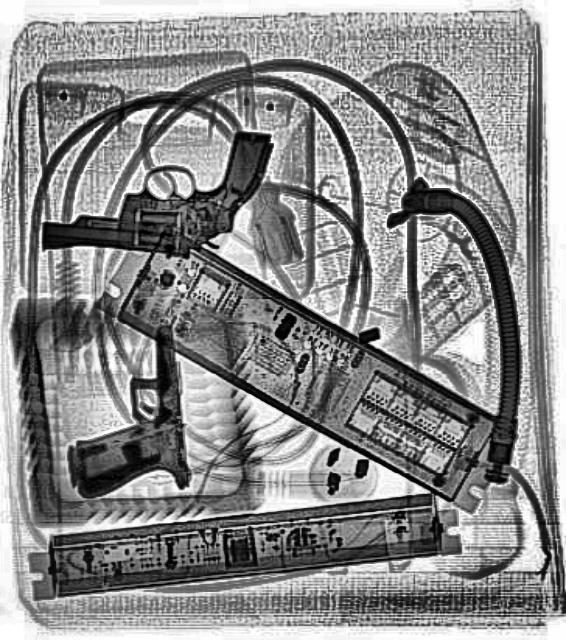Gun: (41, 120, 272, 252), (53, 322, 188, 498)
